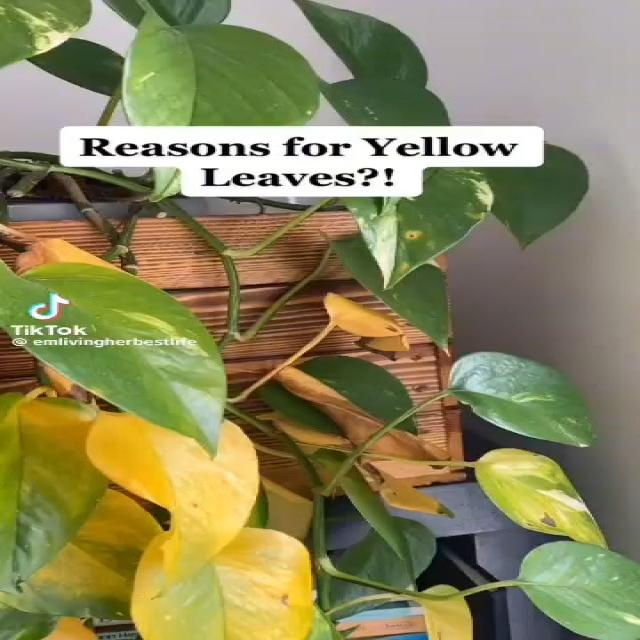lisc_przelany: (85, 413, 260, 579), (276, 367, 466, 516), (12, 489, 165, 629), (0, 388, 103, 595), (132, 528, 315, 640), (229, 293, 411, 403), (469, 448, 608, 549), (327, 585, 475, 640), (9, 241, 132, 278), (41, 618, 107, 640)
roslina_przelana: (0, 224, 640, 640)
